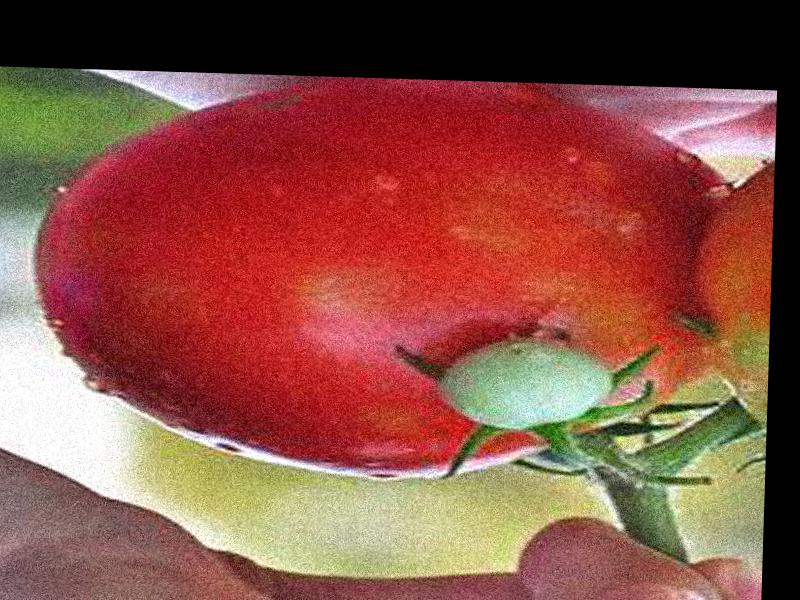Tomato: (30, 67, 728, 489)
